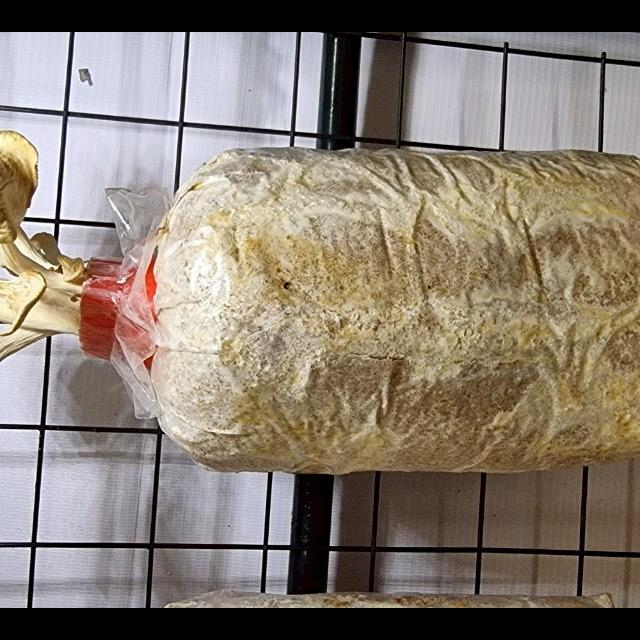abnormal: (0, 110, 86, 288), (0, 135, 90, 292), (0, 325, 85, 487), (0, 233, 76, 320)
